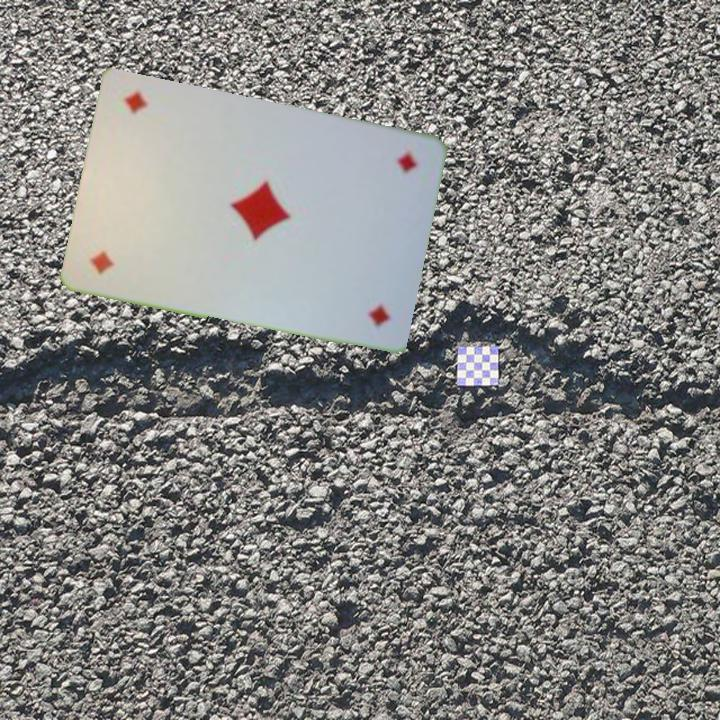d_a.png: (327, 134, 430, 248), (77, 178, 180, 292)
